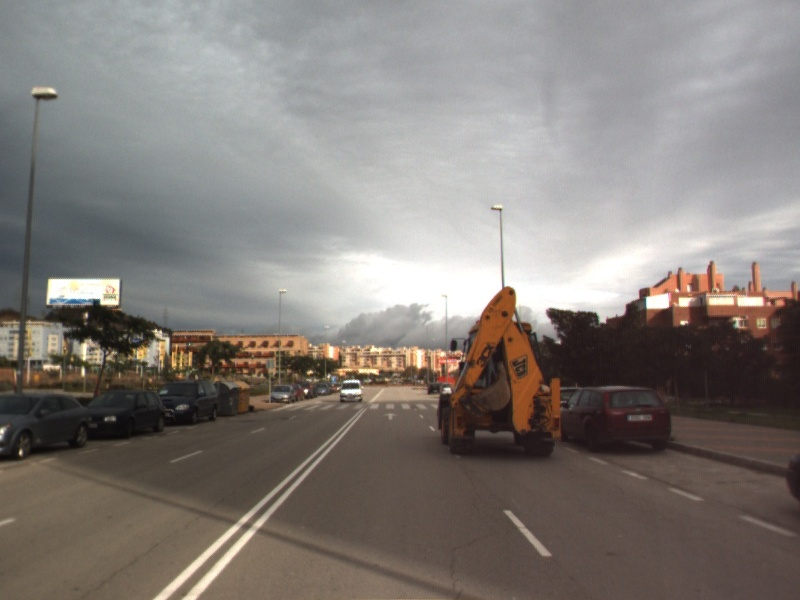STRAIGHT: (381, 411, 400, 422)
